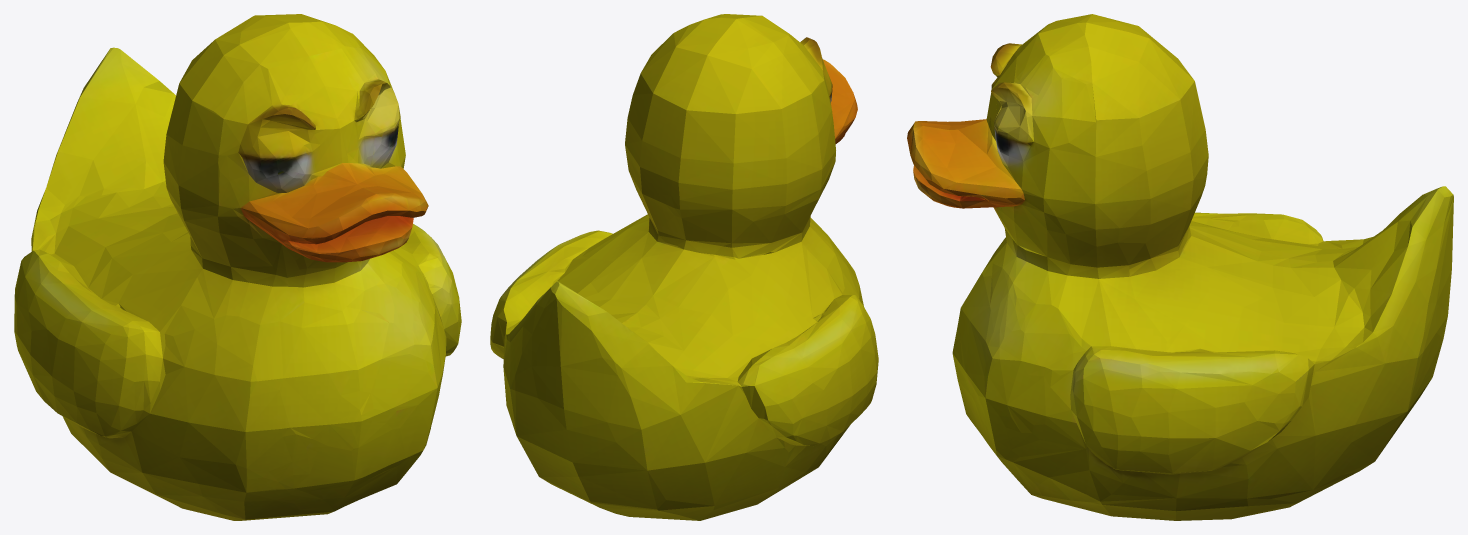
The model's file is m-duck.glb.
3 renders of one model, left to right at view 1: azimuth 30°, elevation 25°; view 2: azimuth 150°, elevation 25°; view 3: azimuth 270°, elevation 25°, orthographic. The views are drawn at different scales.
Parts seen in each view (by area): view 1: geometry_0; view 2: geometry_0; view 3: geometry_0.
Part boxes in pixels (x1,y1,x2,y2): geometry_0: [14, 14, 461, 520]; geometry_0: [490, 14, 878, 520]; geometry_0: [907, 14, 1453, 520].
Size of the model in its own units: 0.754 by 0.9285 by 0.9964.
1 material, 1 textured.
